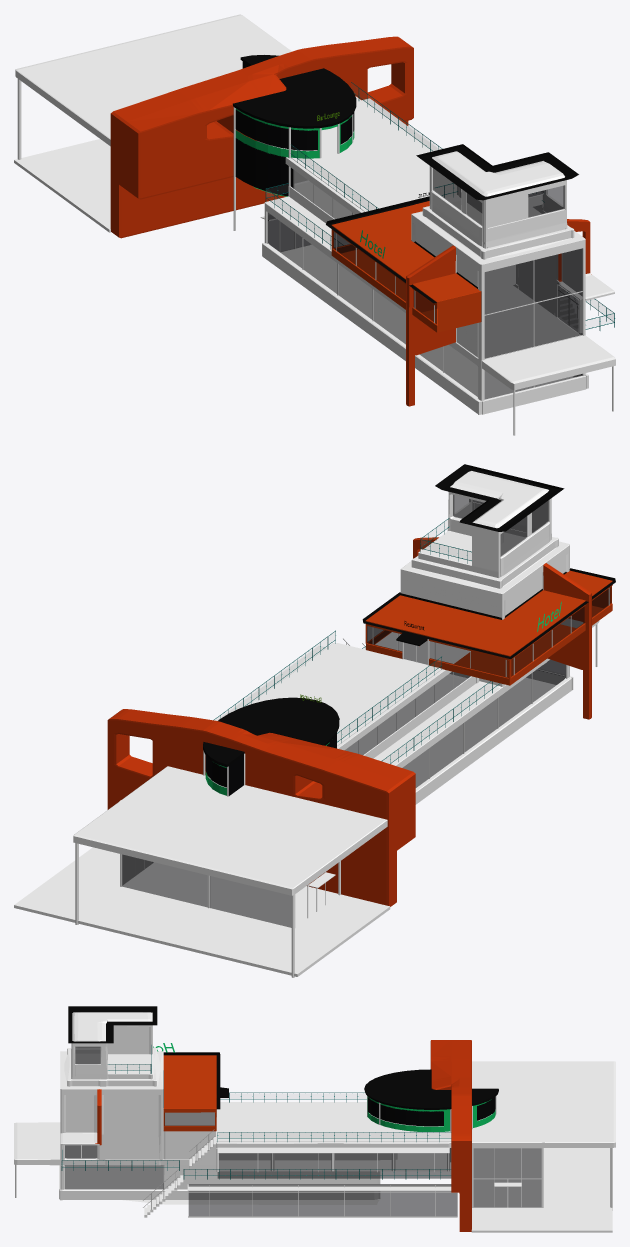
The model's file is Italiandesignhotel1.0 copy.obj.
3 renders of one model, top to bottom at view 1: azimuth 30°, elevation 25°; view 2: azimuth 150°, elevation 25°; view 3: azimuth 270°, elevation 25°, orthographic. The views are drawn at different scales.
Visible parts, largest first — view 1: Cube.001, Cube.004, Cube.003, Plane.009, Cube.005, Cube.068_Cube.125, Plane.007, Circle.002, Cube.028_Cube.113, Cube.026_Cube.036, Circle.001, Plane.004_Plane.037 (+14 smaller); view 2: Cube.001, Cube.028_Cube.113, Cube.003, Cube.004, Cube.005, Cube.068_Cube.125, Plane.002_Plane.003, Plane.007, Circle.002, Cube.002, Plane.011, Plane.004_Plane.037 (+8 smaller); view 3: Cube.001, Cube.003, Cube.028_Cube.113, Plane.003_Plane.004, Cube.068_Cube.125, Plane.005, Cube.004, Plane_Plane.001, Cube.034_Cube.119, Cube.005, Cube.002, Circle.002 (+16 smaller).
Part boxes in pixels (bbox=[...]): Cube.001: bbox=[262, 151, 615, 414]; Cube.004: bbox=[110, 36, 413, 238]; Cube.003: bbox=[15, 14, 431, 152]; Plane.009: bbox=[484, 248, 582, 358]; Cube.005: bbox=[331, 201, 481, 332]; Cube.068_Cube.125: bbox=[276, 99, 429, 211]; Plane.007: bbox=[268, 213, 477, 396]; Circle.002: bbox=[233, 55, 356, 128]; Cube.028_Cube.113: bbox=[14, 139, 111, 232]; Cube.026_Cube.036: bbox=[484, 285, 580, 358]; Circle.001: bbox=[235, 61, 354, 196]; Plane.004_Plane.037: bbox=[416, 144, 578, 200]; Cube.001: bbox=[345, 471, 599, 804]; Cube.028_Cube.113: bbox=[14, 847, 390, 976]; Cube.003: bbox=[73, 642, 387, 895]; Cube.004: bbox=[107, 709, 415, 906]; Cube.005: bbox=[365, 570, 612, 685]; Cube.068_Cube.125: bbox=[255, 643, 441, 745]; Plane.002_Plane.003: bbox=[122, 854, 291, 927]; Plane.007: bbox=[403, 659, 565, 787]; Circle.002: bbox=[203, 697, 339, 767]; Cube.002: bbox=[337, 632, 479, 758]; Plane.011: bbox=[367, 626, 508, 677]; Plane.004_Plane.037: bbox=[435, 464, 564, 531]; Cube.001: bbox=[14, 1012, 380, 1204]; Cube.003: bbox=[216, 1061, 615, 1171]; Cube.028_Cube.113: bbox=[471, 1148, 612, 1232]; Plane.003_Plane.004: bbox=[188, 1184, 457, 1216]; Cube.068_Cube.125: bbox=[216, 1102, 451, 1141]; Plane.005: bbox=[217, 1148, 451, 1178]; Cube.004: bbox=[430, 1040, 471, 1231]; Plane_Plane.001: bbox=[473, 1148, 541, 1207]; Cube.034_Cube.119: bbox=[187, 1147, 521, 1191]; Cube.005: bbox=[163, 1055, 228, 1131]; Cube.002: bbox=[163, 1102, 397, 1159]; Circle.002: bbox=[364, 1069, 498, 1109].
Size of what is drawn, in the model's own units: 13.3 by 9.22 by 32.18.
